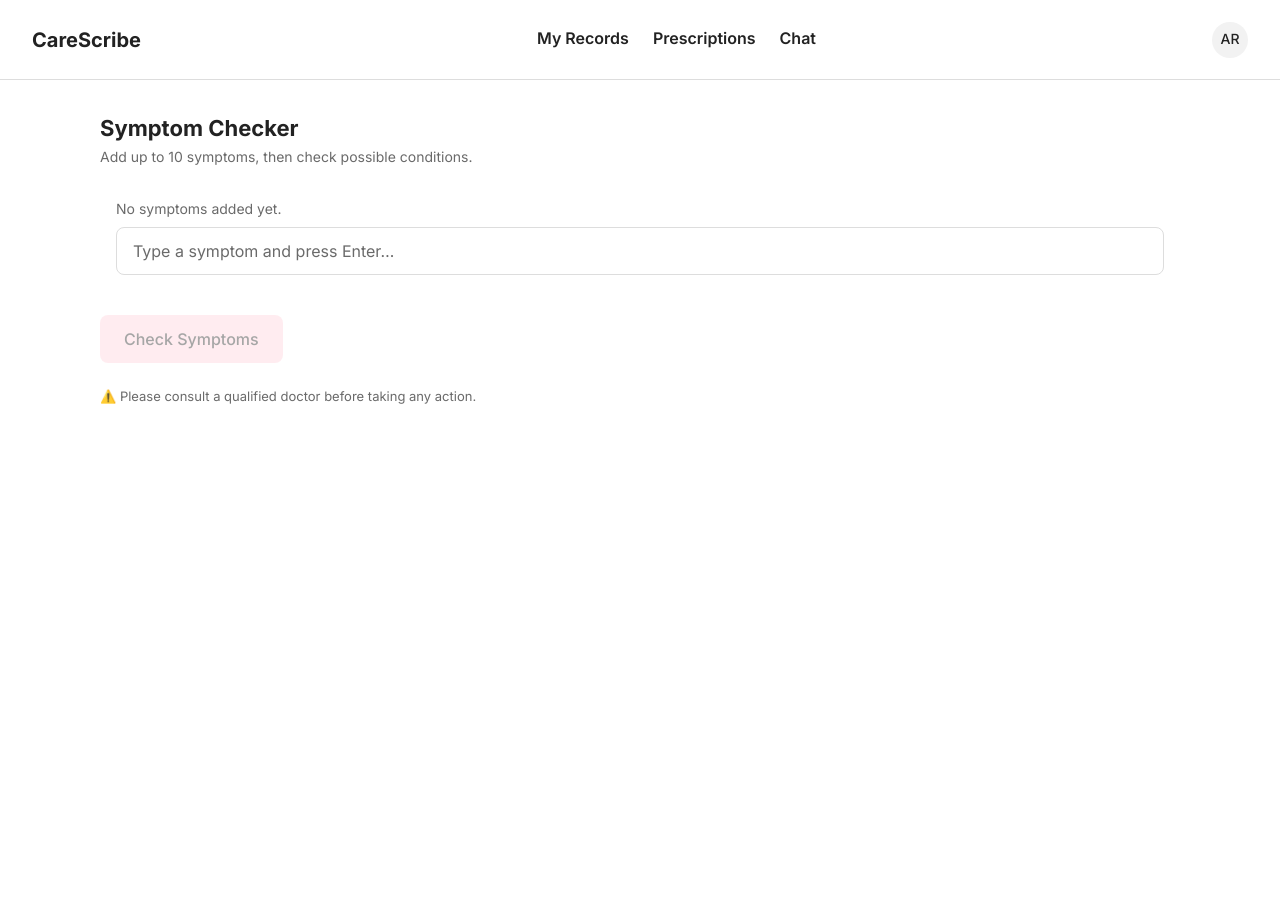
Test: symptom checker › shows results with severity badges (color + text)
The width and height of the screenshot is (1280, 900).
Step 1. Type "fever" into the field labelled "Type a symptom and press Enter" → x=640, y=251, box x1=116 y1=227 x2=1164 y2=275
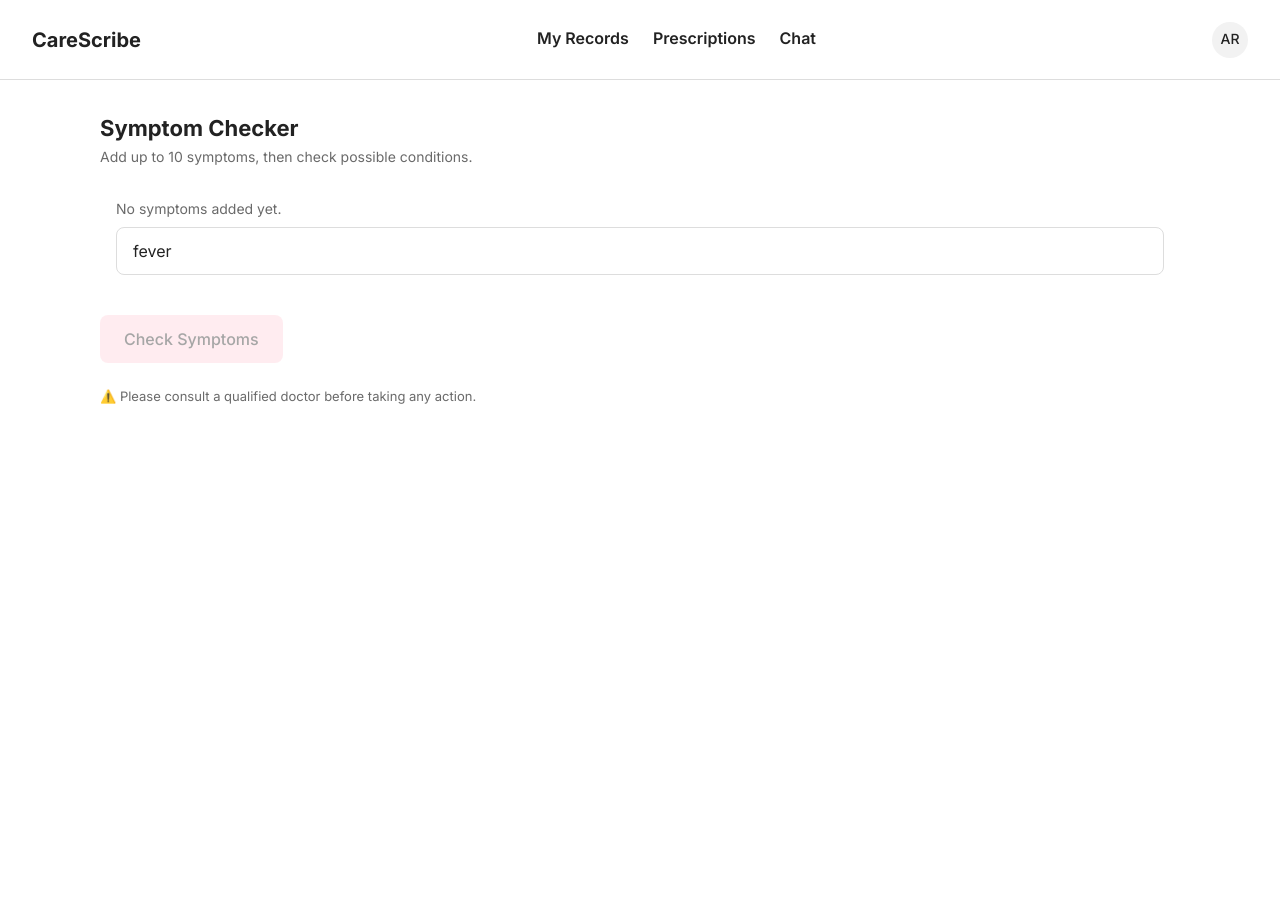
Step 2. Press Enter in the field named "Type a symptom and press Enter", box x1=116 y1=227 x2=1164 y2=275
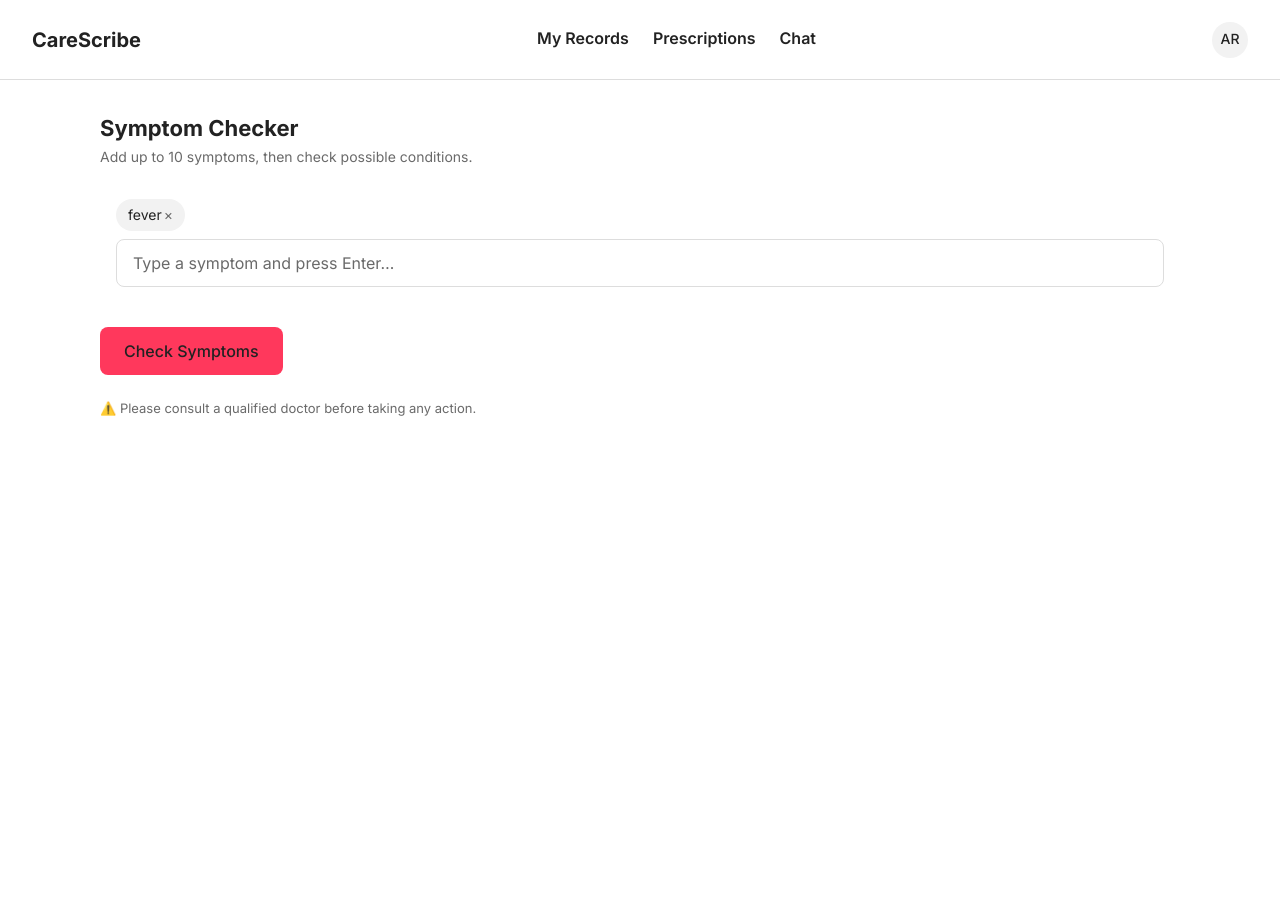
Step 3. Click the button "Check Symptoms" → x=191, y=351, box x1=100 y1=327 x2=283 y2=375
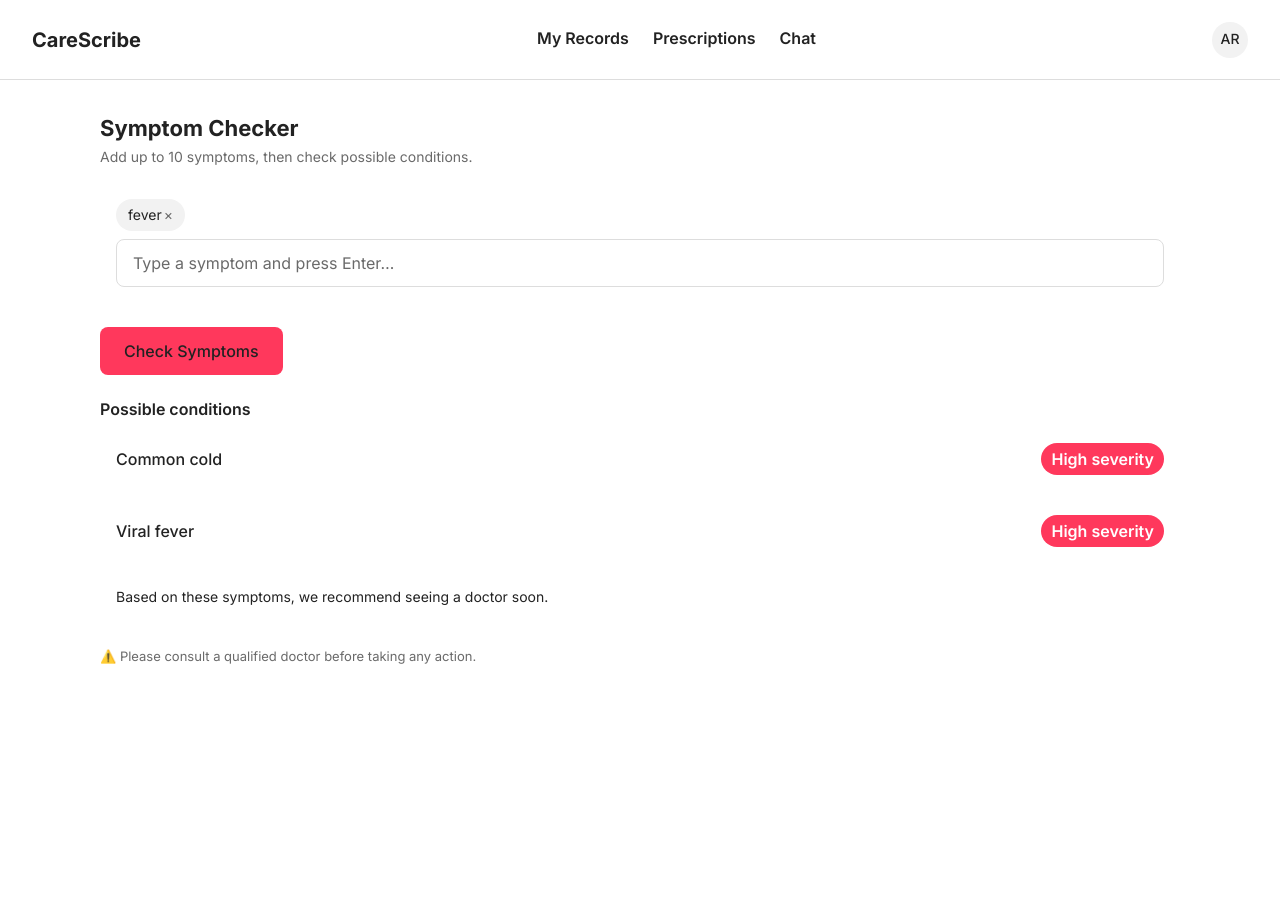
Now the text "Common cold" is shown, box x1=116 y1=449 x2=222 y2=469
Now the text "Viral fever" is shown, box x1=116 y1=521 x2=194 y2=541
Now the text "High severity" is shown 2 times, box x1=1042 y1=443 x2=1164 y2=475; x1=1042 y1=515 x2=1164 y2=547
